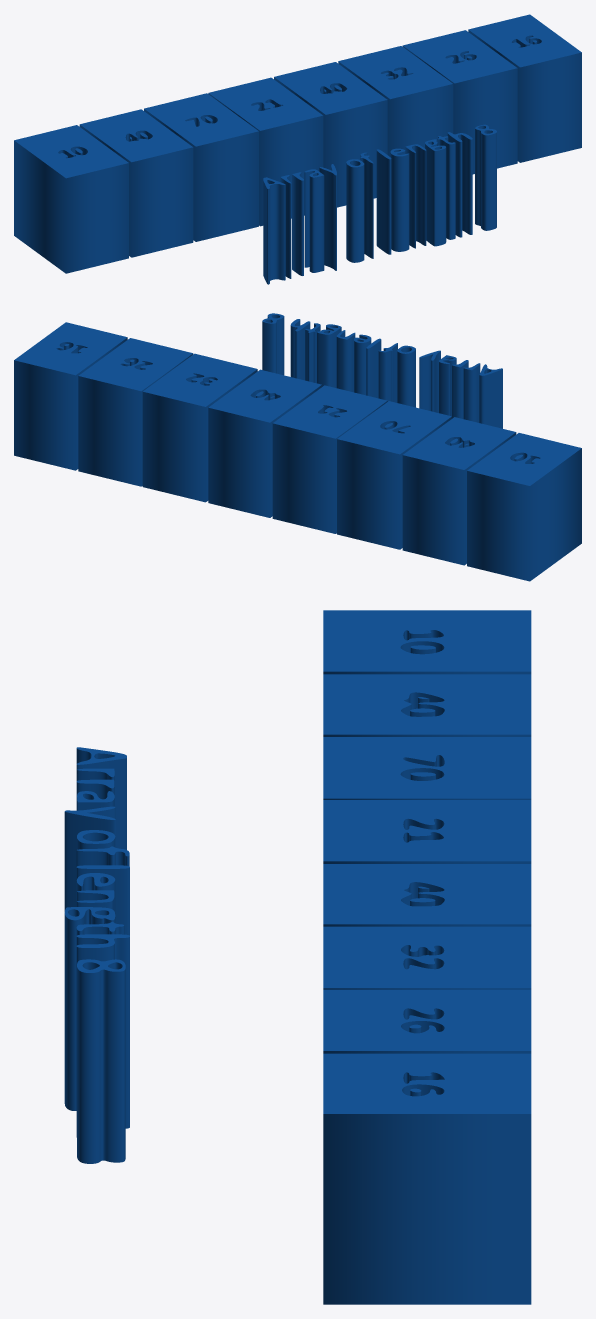
File: array.fbx
3 renders of one model, top to bottom at view 1: azimuth 30°, elevation 25°; view 2: azimuth 150°, elevation 25°; view 3: azimuth 270°, elevation 25°, orthographic. The views are drawn at different scales.
Visible parts, largest first — view 1: path74; view 2: path74; view 3: path74.
Boxes of the visible parts, bbox=[...] form: path74: bbox=[14, 14, 581, 284]; path74: bbox=[14, 313, 581, 581]; path74: bbox=[64, 610, 531, 1304].
Size of the model in its own units: 11.32 by 2 by 4.43.
